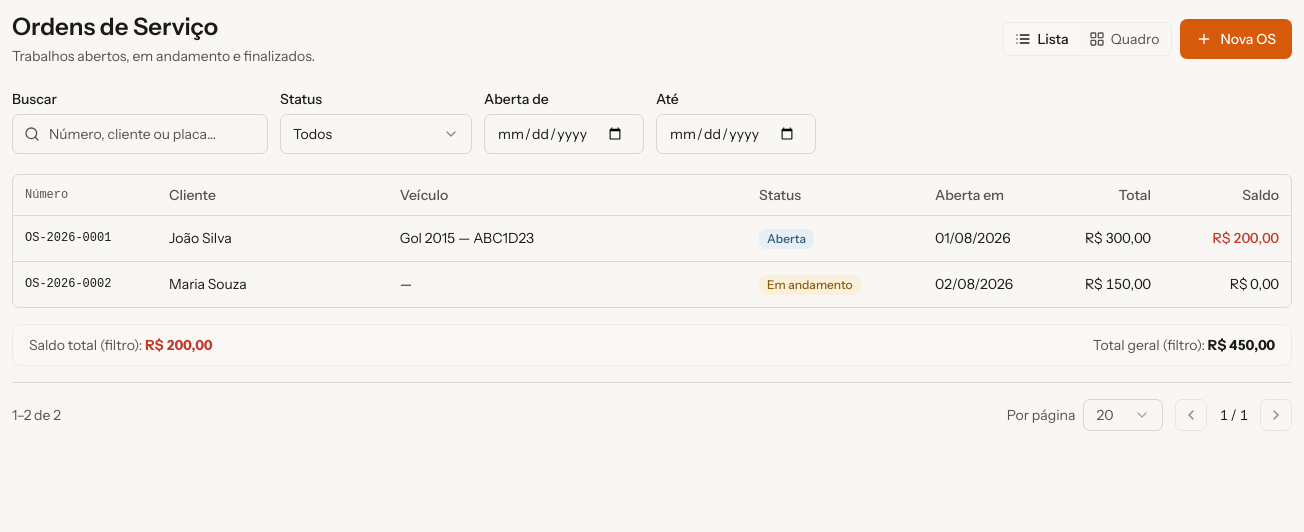
OrdensListPage — Lista › a busca envia o parâmetro `filtro` na request
Expected: the text "João Silva" is shown, [157,215,388,261]
Type "gol" into the search field with placeholder "Número, cliente ou placa…" at {"x": 140, "y": 134}, box [12,114,268,154]
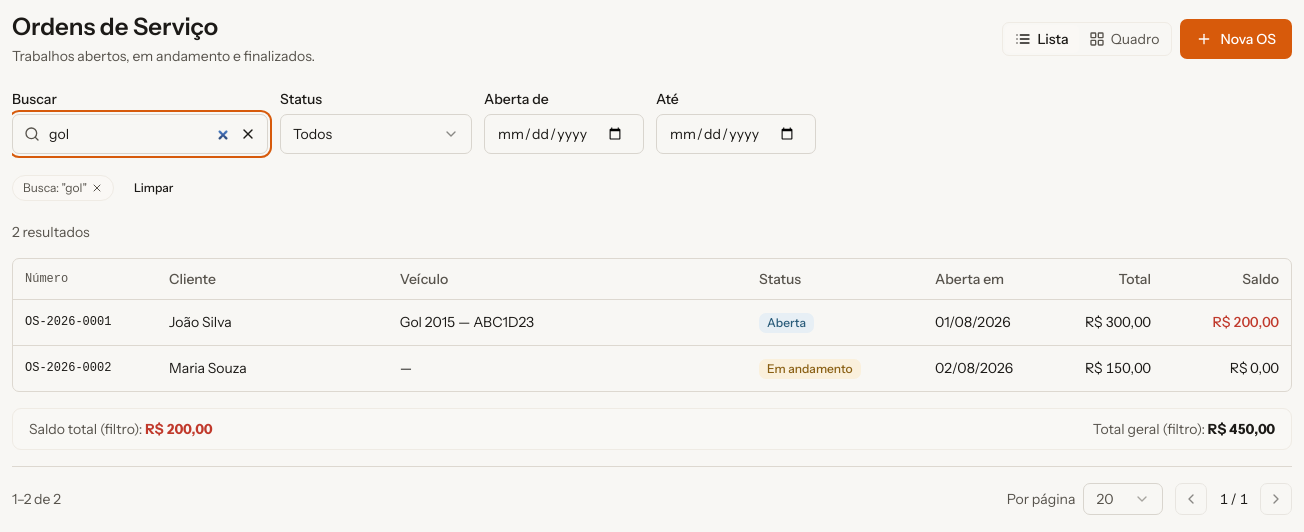
Expected: the text "2 resultados" is shown, [12,223,90,241]
